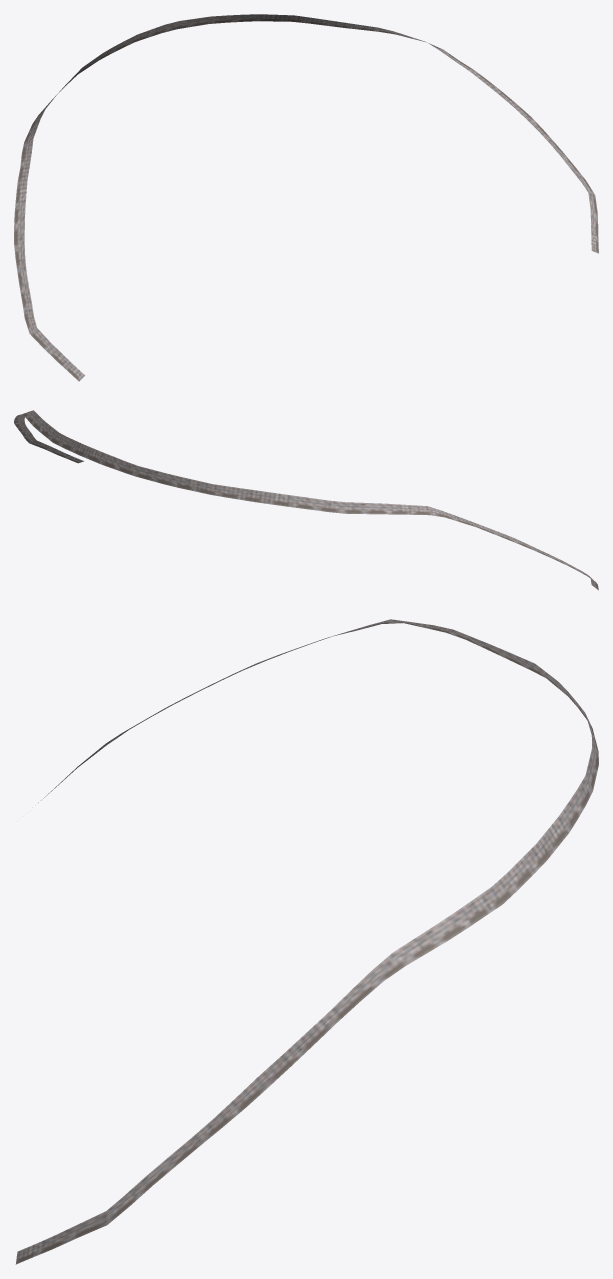
File: notch_collar_wide_AMF 2mm.glb
3 renders of one model, top to bottom at view 1: azimuth 30°, elevation 25°; view 2: azimuth 150°, elevation 25°; view 3: azimuth 270°, elevation 25°, orthographic. The views are drawn at different scales.
Visible parts, largest first — view 1: notch_collar_wide_AMF1; view 2: notch_collar_wide_AMF1; view 3: notch_collar_wide_AMF1.
Boxes of the visible parts, box(x1,y1,x2,y2) form: notch_collar_wide_AMF1: box(14, 14, 598, 381); notch_collar_wide_AMF1: box(14, 410, 598, 590); notch_collar_wide_AMF1: box(15, 619, 598, 1264).
Size of the model in its own units: 0.0389 by 0.0114 by 0.02.
Materials: 1 (1 with a texture image).
